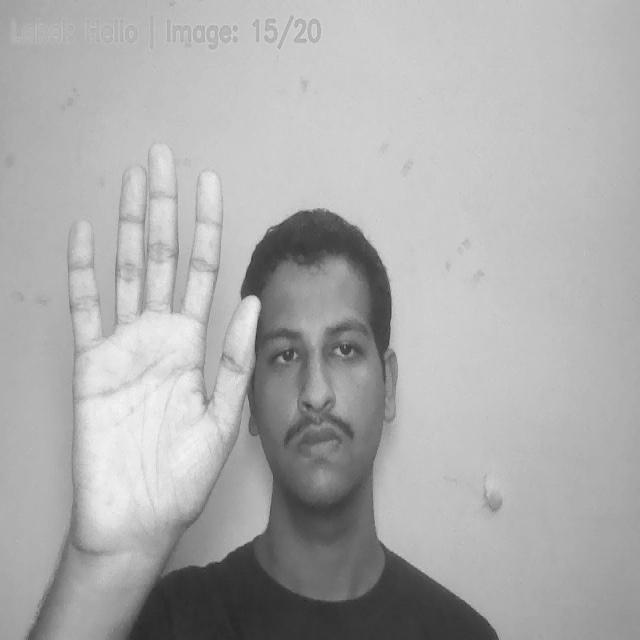Hello: (56, 142, 263, 544)
